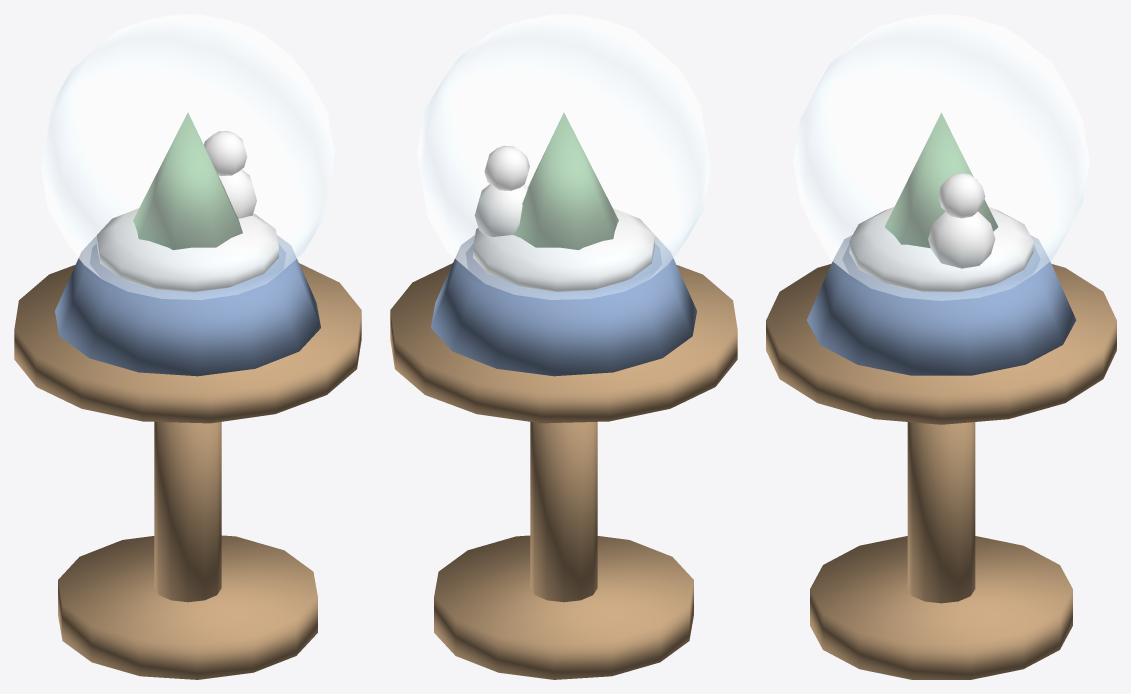
The model's file is home_sv_snowglobe_v01.glb.
3 renders of one model, left to right at view 1: azimuth 30°, elevation 25°; view 2: azimuth 150°, elevation 25°; view 3: azimuth 270°, elevation 25°, orthographic.
Parts seen in each view (by area): view 1: home_sv_snowglobe_v01; view 2: home_sv_snowglobe_v01; view 3: home_sv_snowglobe_v01.
Boxes of the visible parts, left/top/right/bottom form: home_sv_snowglobe_v01: left=14, top=14, right=361, bottom=679; home_sv_snowglobe_v01: left=390, top=14, right=737, bottom=679; home_sv_snowglobe_v01: left=766, top=14, right=1116, bottom=679.
Bounding box in the file's own units: 0.52 × 0.98 × 0.52.
